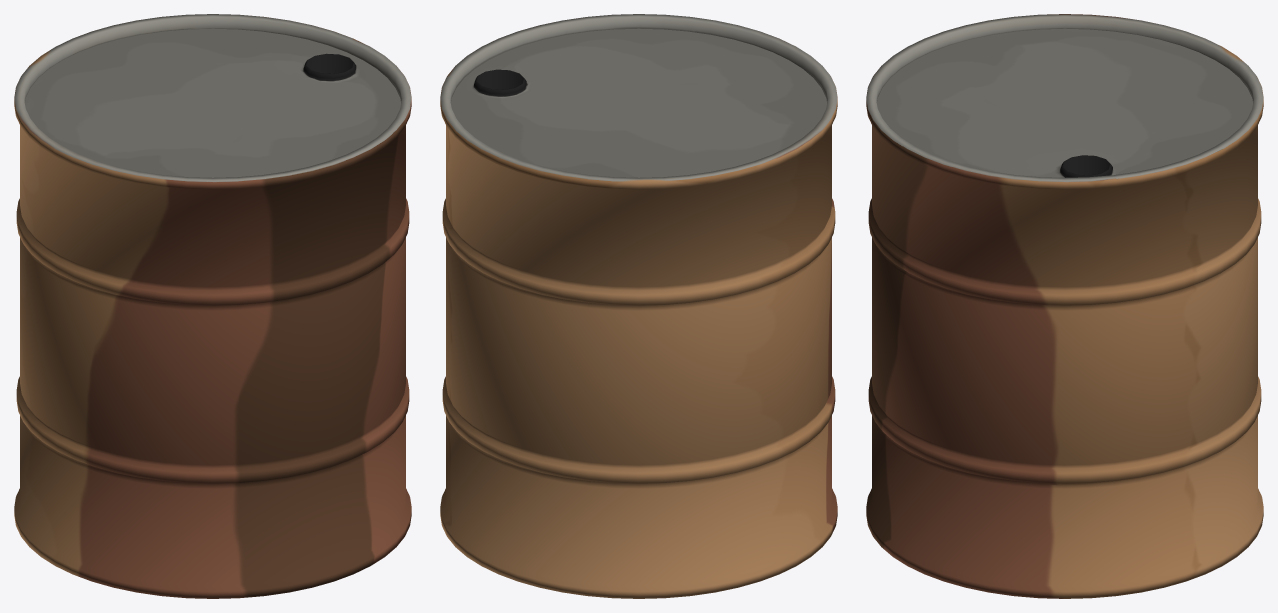
The model's file is barrel_new.fbx.
The picture shows the model from 3 angles, left to right: view 1: azimuth 30°, elevation 25°; view 2: azimuth 150°, elevation 25°; view 3: azimuth 270°, elevation 25°; orthographic projection.
Parts seen in each view (by area): view 1: Barrel_default; view 2: Barrel_default; view 3: Barrel_default.
Part boxes in pixels (<box>): Barrel_default: <box>14,14,411,598</box>; Barrel_default: <box>440,14,837,598</box>; Barrel_default: <box>866,14,1263,598</box>.
Bounding box in the file's own units: 0.5408 × 0.6259 × 0.5408.
